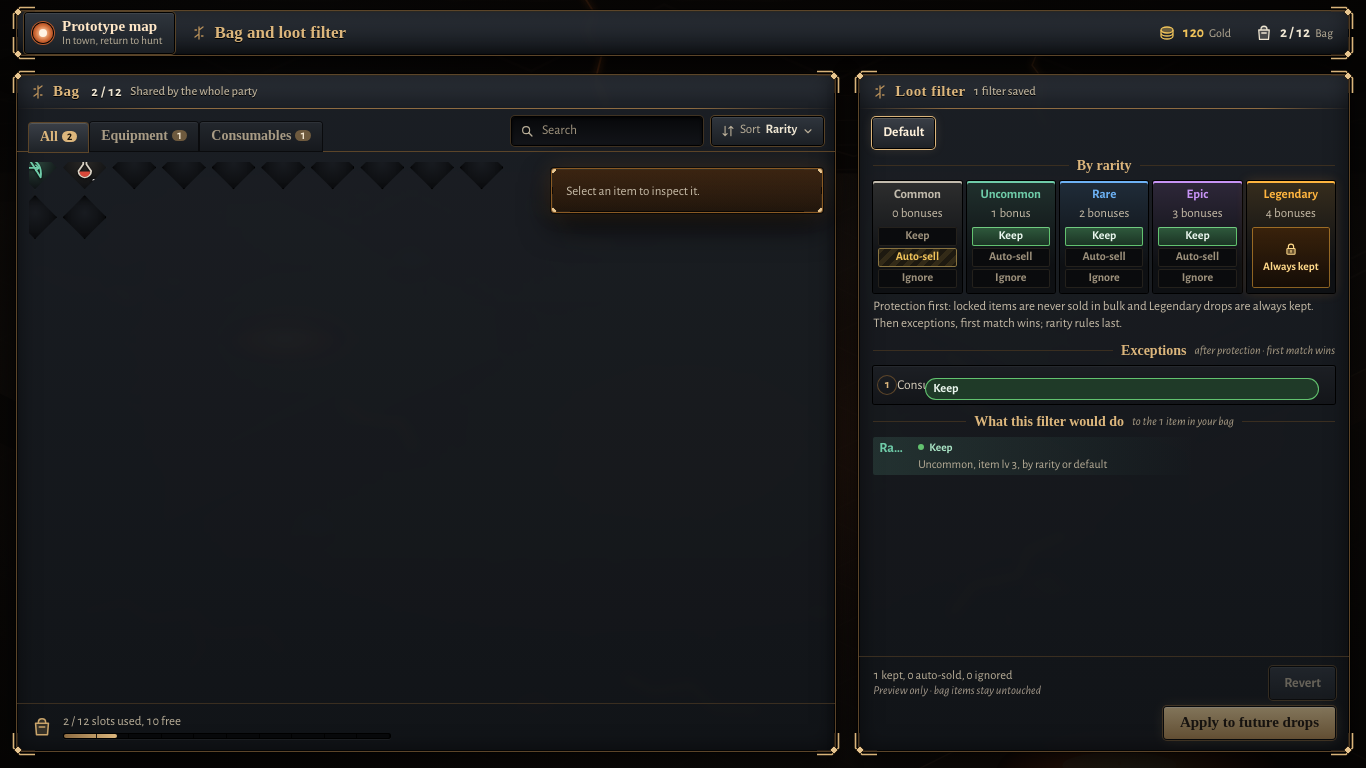
Test: B-12: comparison against a real character and slot › signed deltas against what the eligible character wears
Step 1. Click the button named "," → (35, 168), box left=13, top=146, right=57, bottom=189
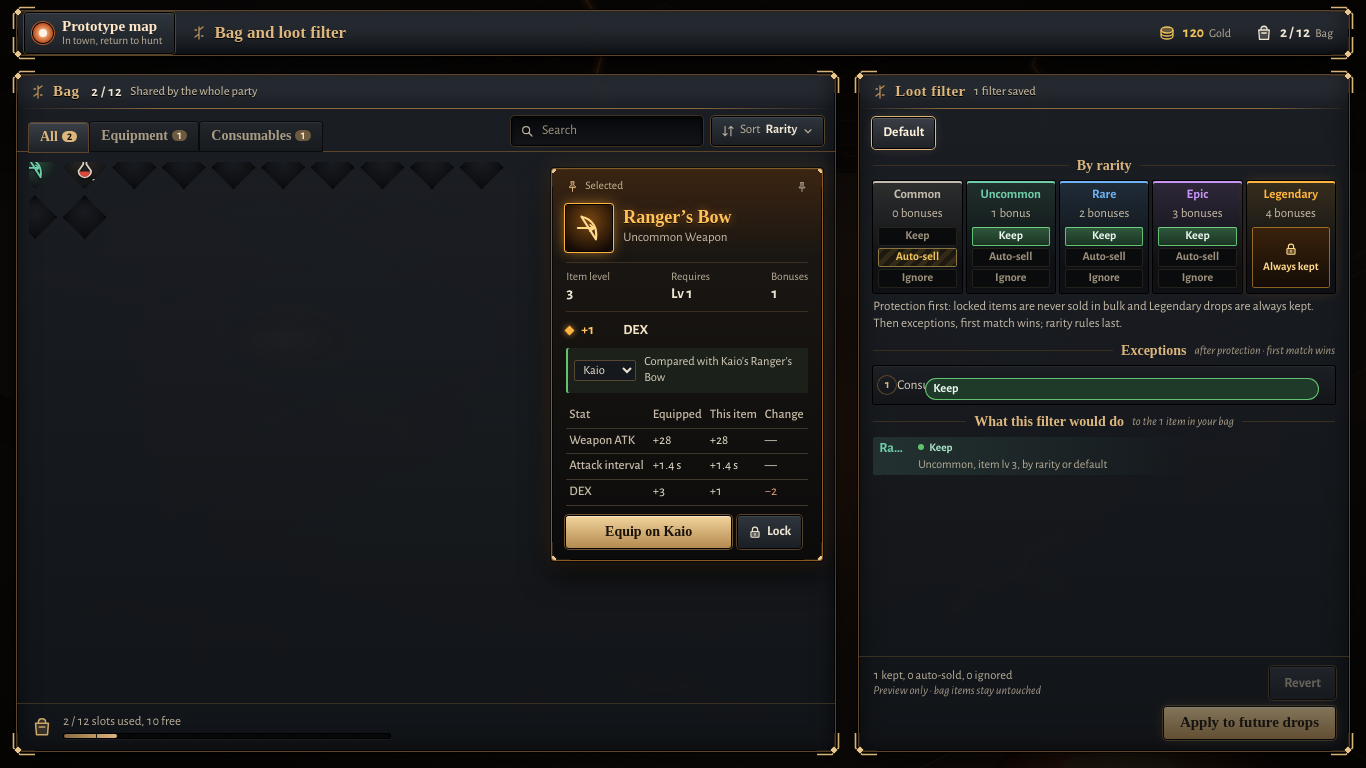
Expected: the dropdown named "Compare with" shows "Kaio", left=574, top=360, right=636, bottom=381
Expected: the row "DEX +3 +1 −2" is shown, left=566, top=480, right=808, bottom=506
